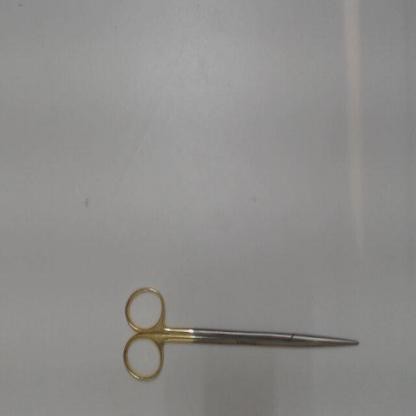7 Metzenbaum Scissors: (120, 284, 360, 388)
